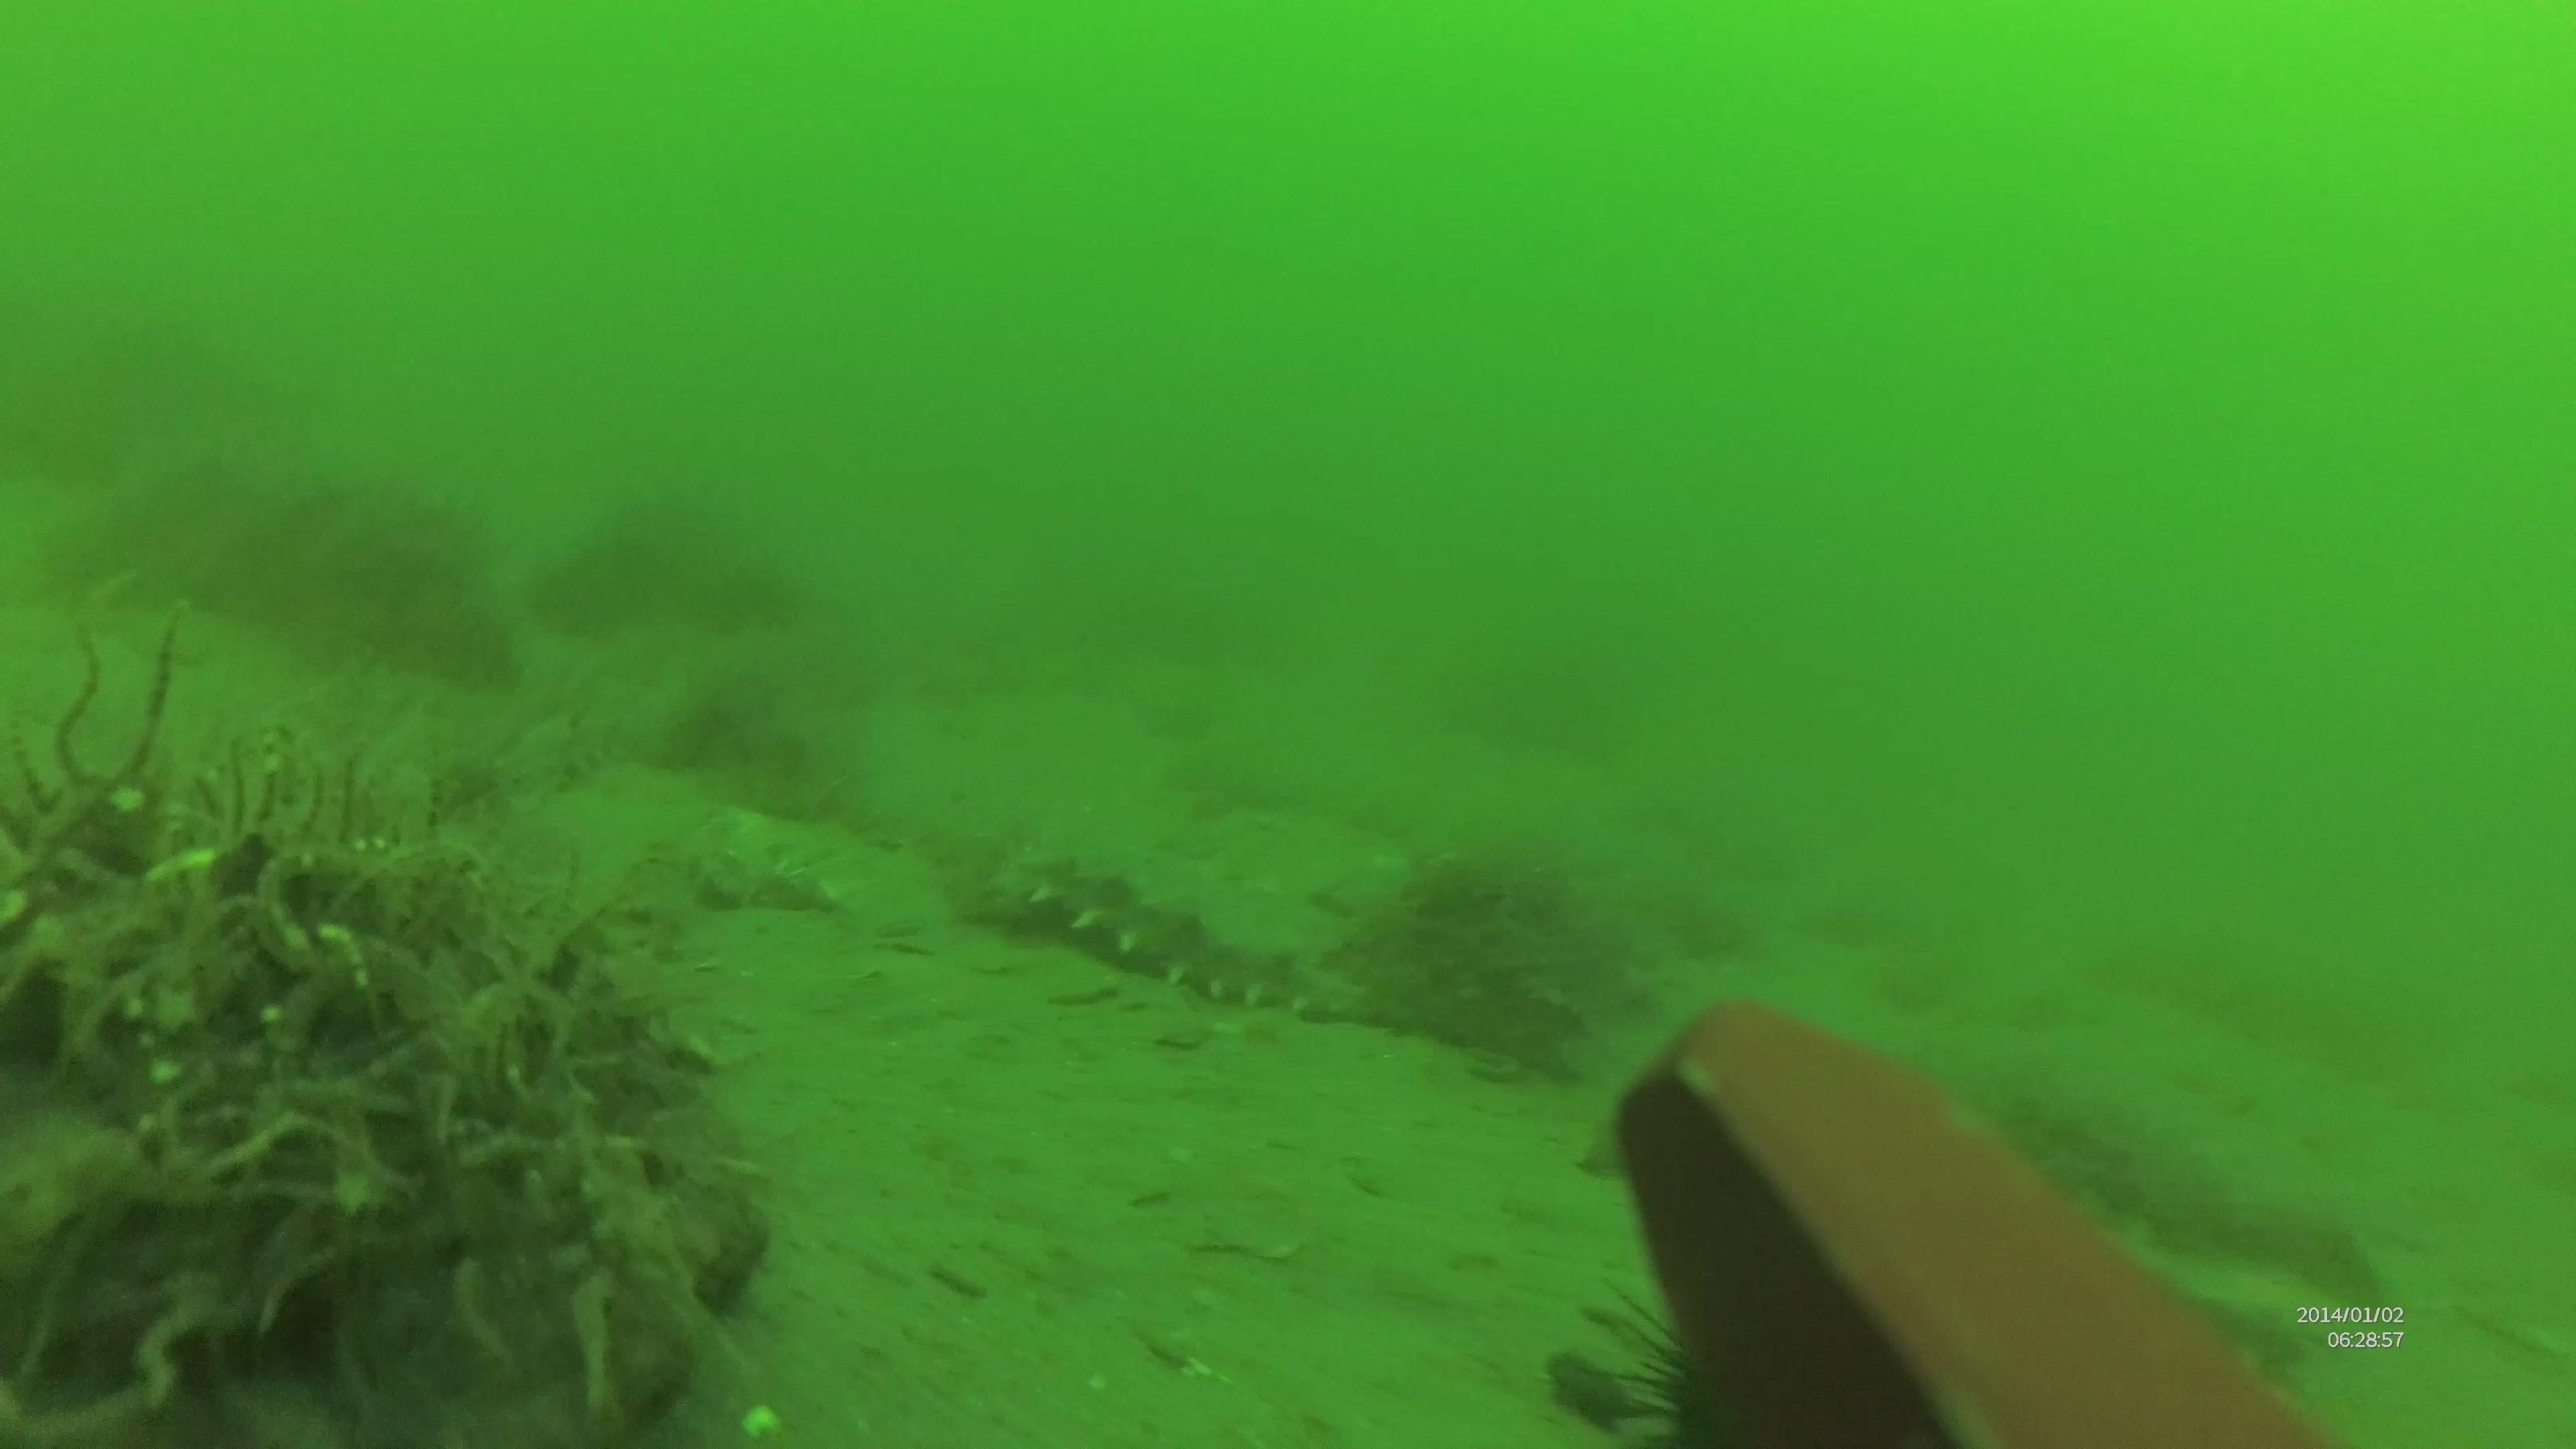echinus: (1552, 1254, 1948, 1440)
holothurian: (982, 839, 1364, 1028)
